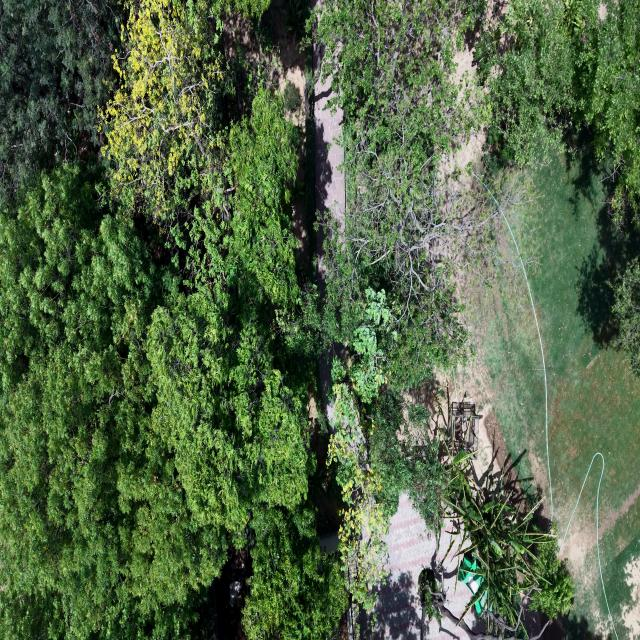DRY_AREA: (512, 155, 639, 639), (514, 156, 639, 639), (348, 495, 469, 639), (360, 495, 469, 639), (361, 496, 468, 639), (311, 42, 344, 223)
VEGETATION_TREE: (0, 0, 639, 639), (0, 2, 345, 639), (309, 0, 639, 608), (313, 0, 639, 391), (309, 0, 485, 609), (0, 164, 225, 636), (147, 90, 308, 529), (316, 0, 485, 390), (474, 0, 639, 240), (327, 287, 447, 610), (474, 0, 639, 220), (418, 451, 572, 639), (100, 0, 223, 221), (0, 0, 119, 202), (446, 454, 572, 630), (474, 2, 598, 166), (327, 326, 391, 610), (242, 501, 347, 639), (578, 1, 639, 221), (369, 392, 448, 528), (612, 254, 639, 377), (530, 540, 573, 616)
